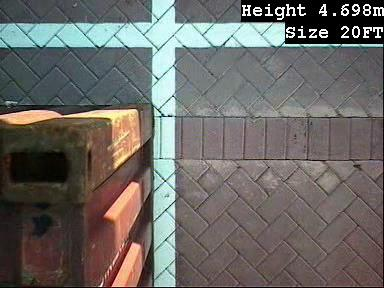groundmarker_2: (78, 5, 154, 52), (79, 158, 155, 205)
